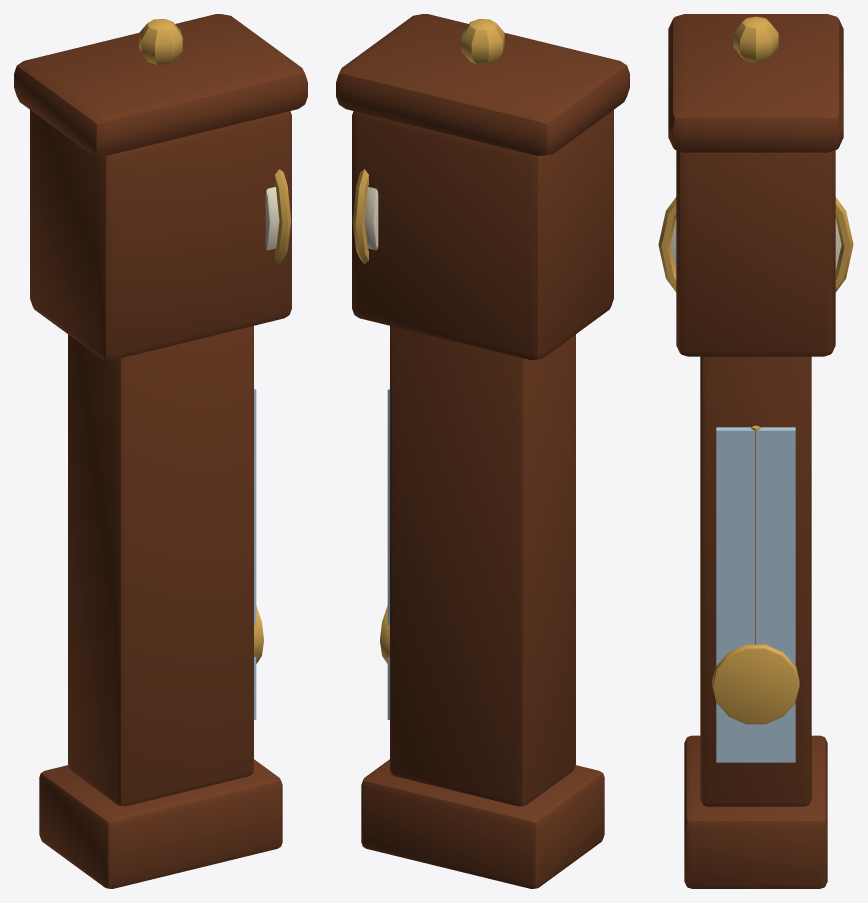
The model's file is HeroClock.fbx.
3 renders of one model, left to right at view 1: azimuth 30°, elevation 25°; view 2: azimuth 150°, elevation 25°; view 3: azimuth 270°, elevation 25°, orthographic.
Parts seen in each view (by area): view 1: HeroClock; view 2: HeroClock; view 3: HeroClock.
Boxes of the visible parts, x1,y1,x2,y2 form: HeroClock: (14,14,307,888); HeroClock: (336,14,629,888); HeroClock: (658,14,853,888).
Size of the model in its own units: 320 by 1150 by 245.
